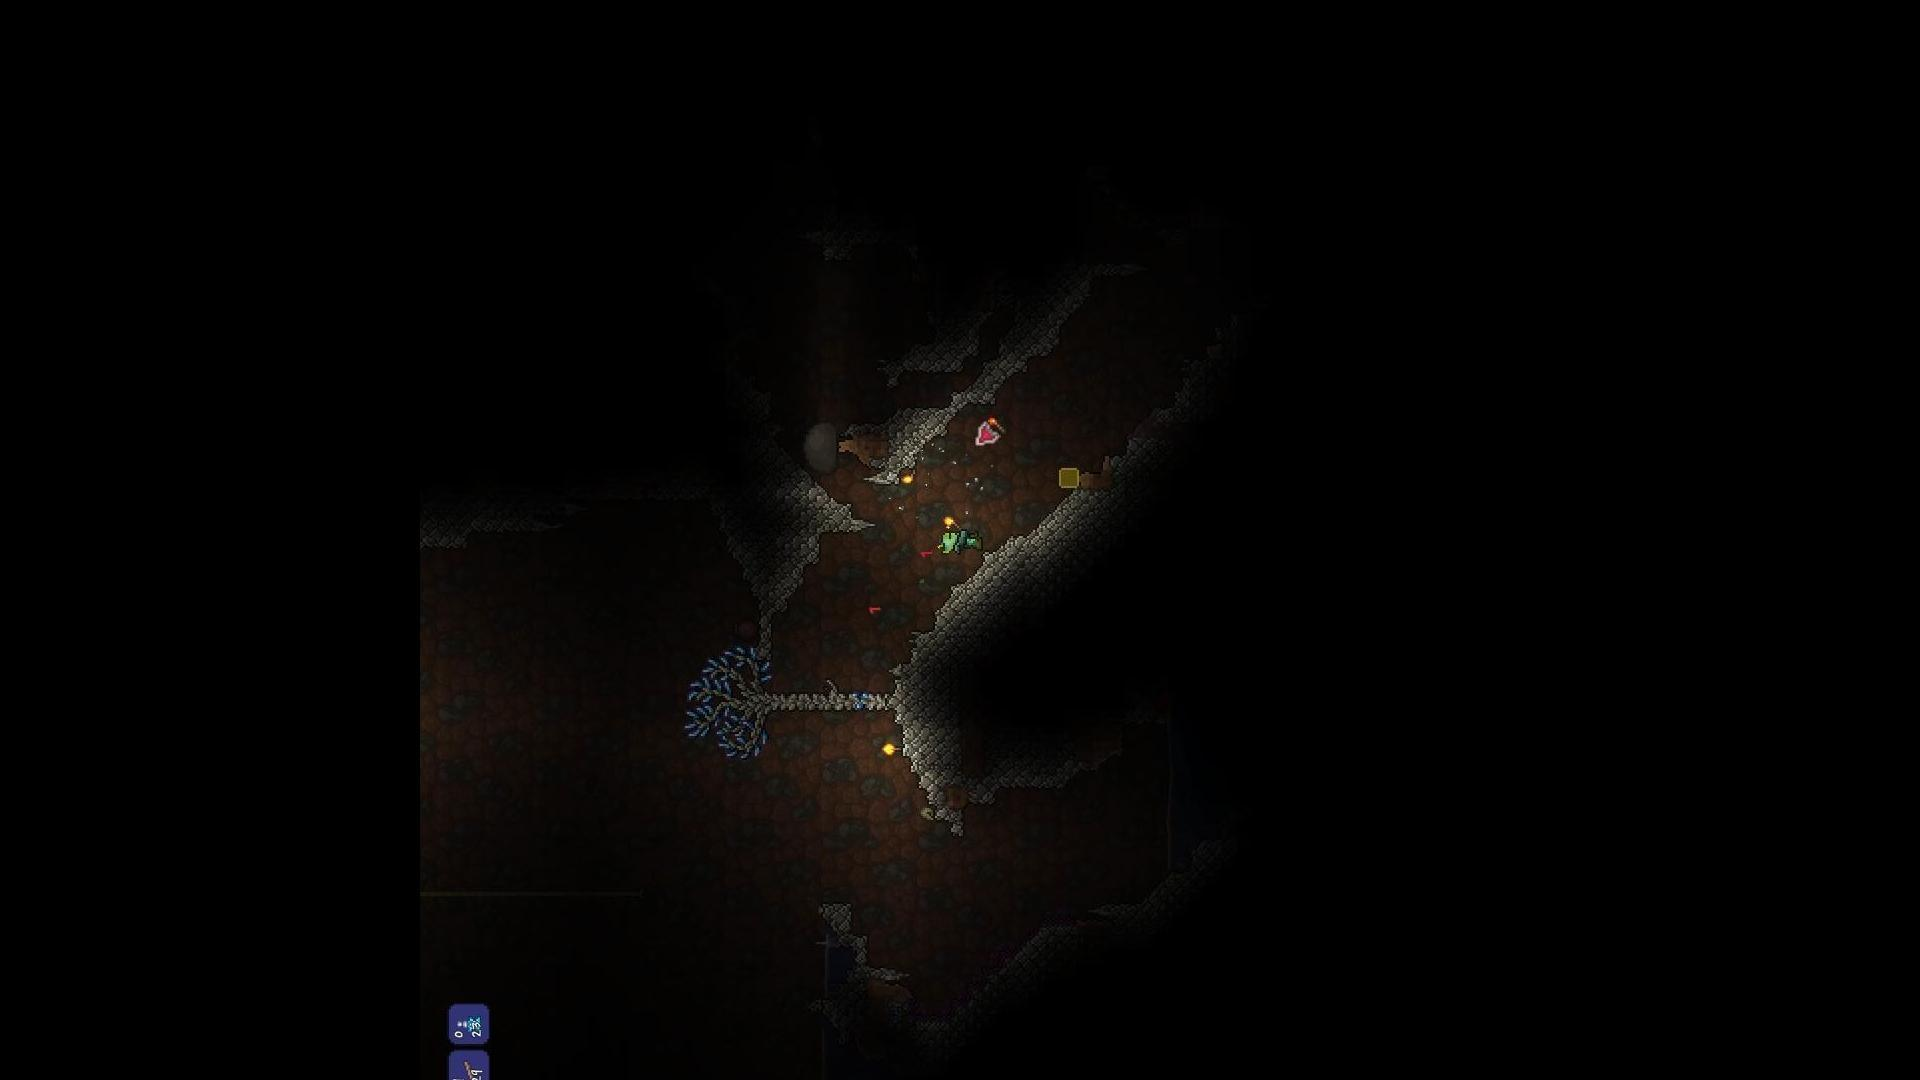recallP: (454, 1015, 481, 1034)
slime: (803, 418, 845, 480)
